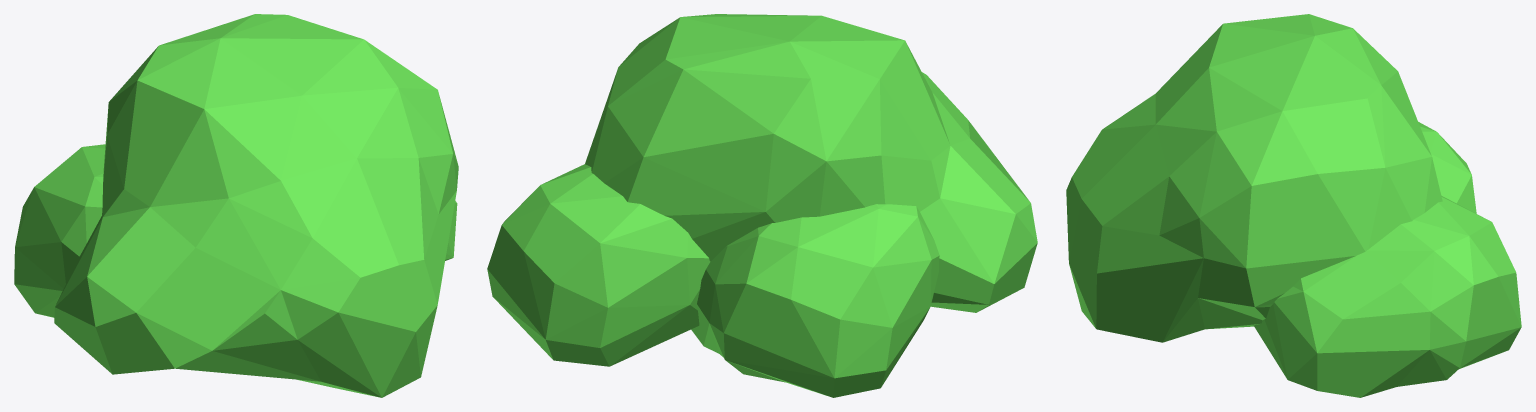
File: 03 Shrub Small.fbx
3 views of the same model, side by side, from view 1: azimuth 30°, elevation 25°; view 2: azimuth 150°, elevation 25°; view 3: azimuth 270°, elevation 25° (orthographic). The views are drawn at different scales.
Visible parts, largest first — view 1: 03 Shrub Small; view 2: 03 Shrub Small; view 3: 03 Shrub Small.
Boxes of the visible parts, left/top/right/bottom form: 03 Shrub Small: left=14, top=14, right=458, bottom=397; 03 Shrub Small: left=487, top=14, right=1037, bottom=397; 03 Shrub Small: left=1066, top=14, right=1521, bottom=397.
Size of the model in its own units: 70.88 by 46.39 by 70.67.
